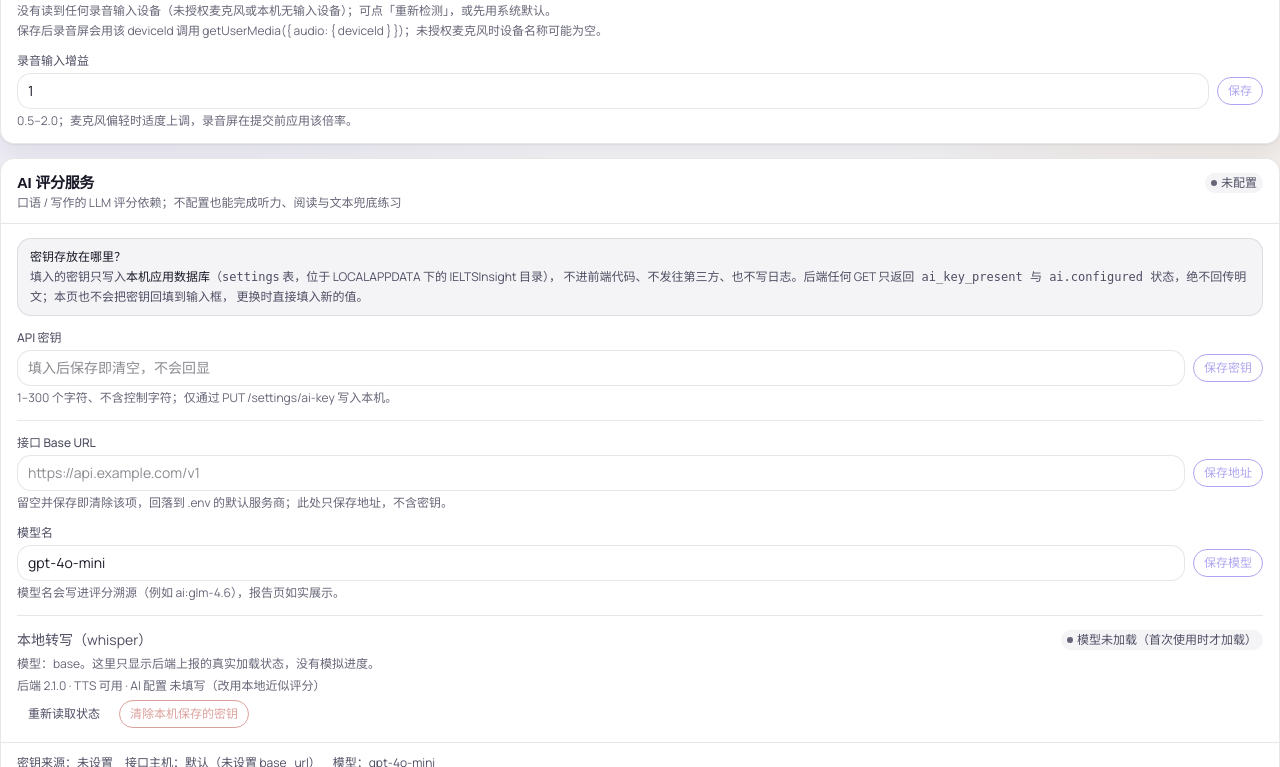
AC-C2 AI 密钥只写不回读 › 密钥框是密码框、提交即清空，只有配置状态翻转，明文不进 DOM
(page scrolled)
In the password field with id "setting-ai-key": (601, 368) [17,350,1185,386], type "sk-submit123456789"
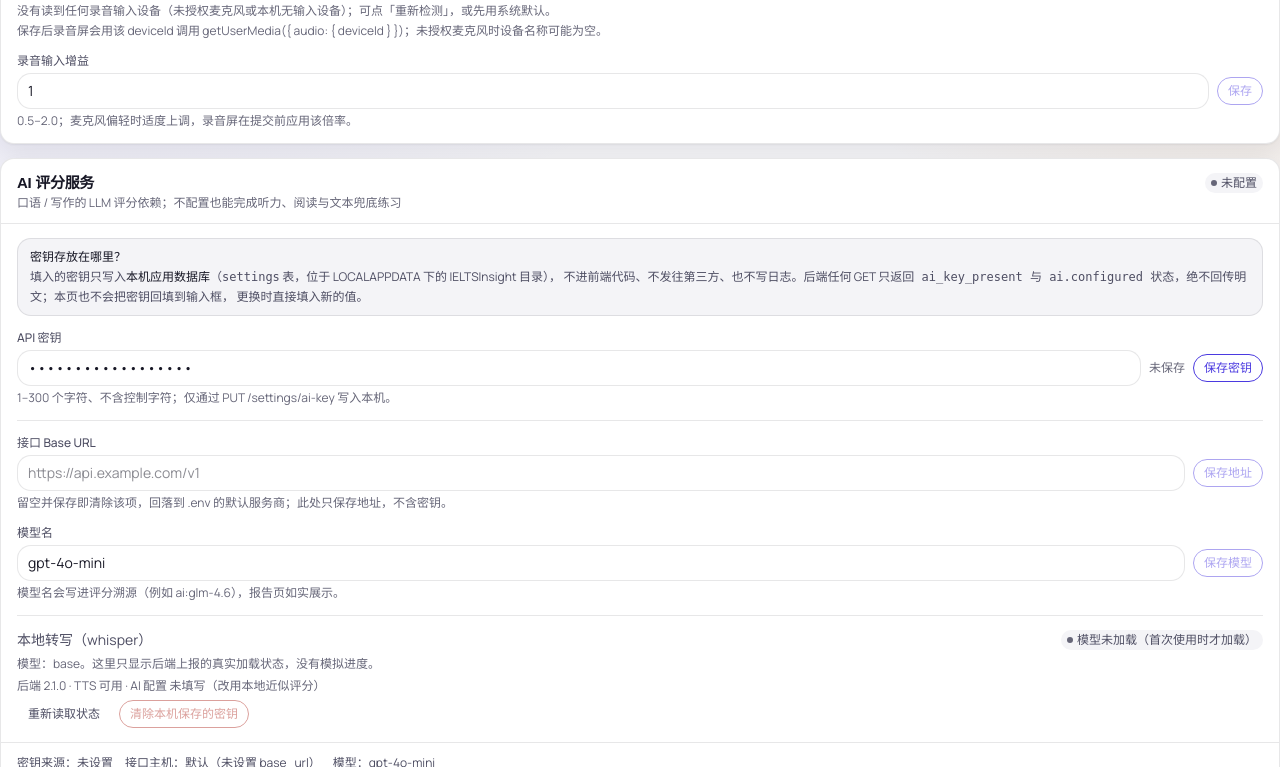
Click the button "保存密钥": click(1228, 368) [1193,354,1263,382]
(page scrolled)
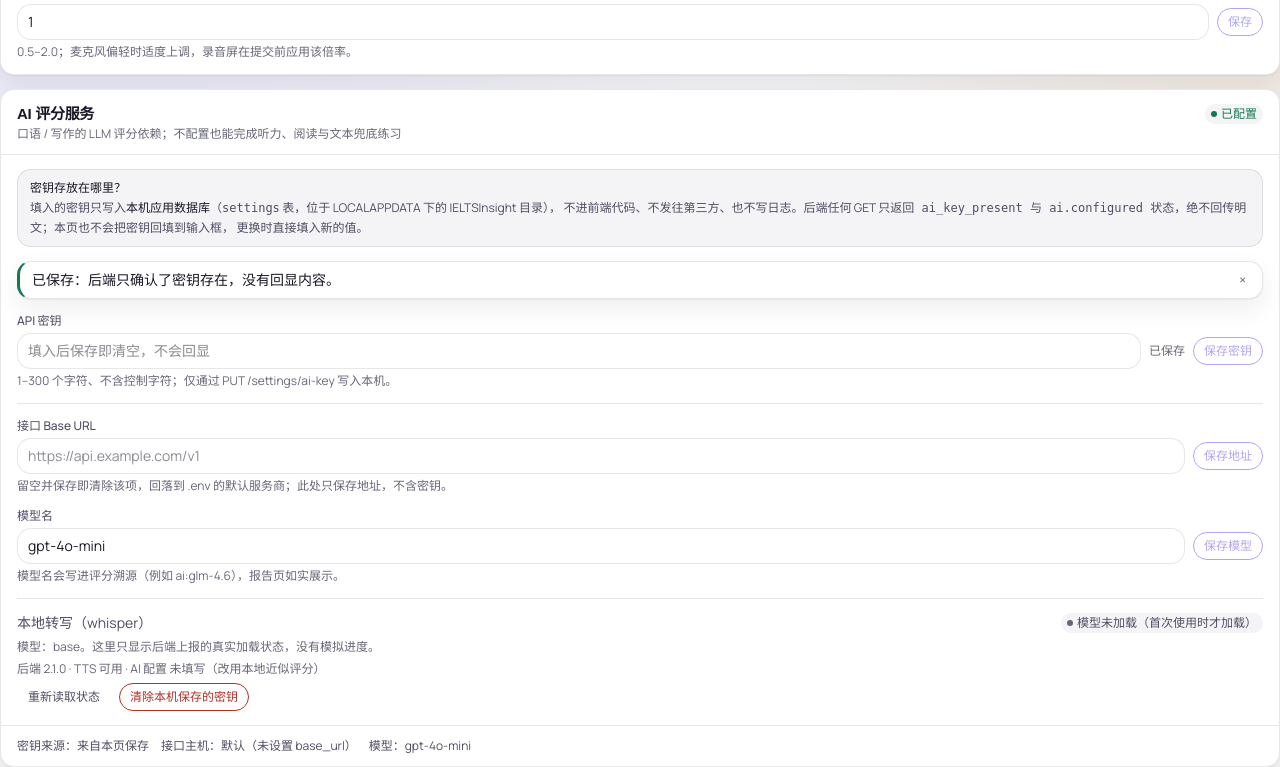
Now the text "已保存：后端只确认了密钥存在，没有回显内容。" is shown, box [32,270,340,289]
Now the password field with id "setting-ai-key" is empty, box [17,333,1141,369]
Now the text "已配置" is shown, box [1205,104,1263,124]
